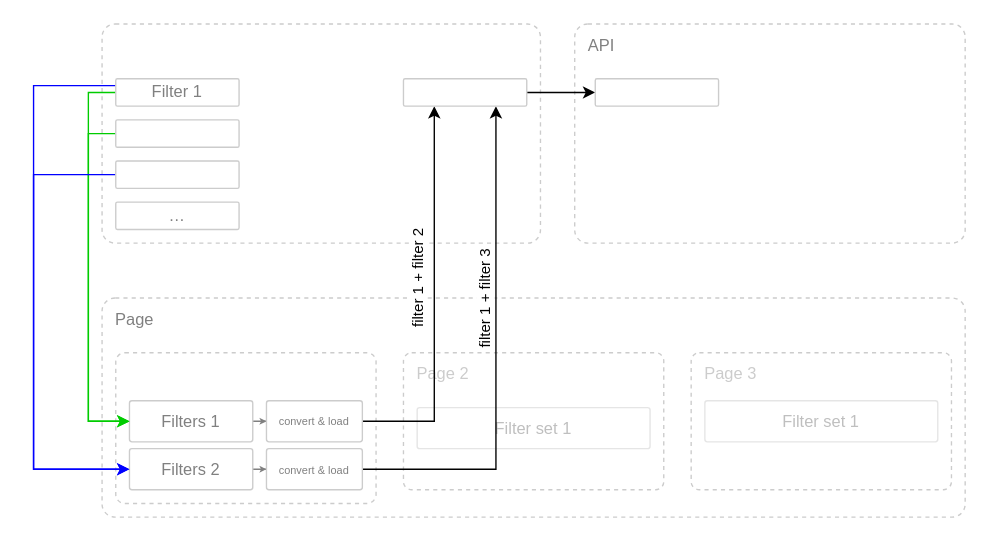
This 989x541 diagram has some shape labels left out. The shapes that lost their labels are listed below. From the top down, each one's box as (x1, y1, x2, y2) in pixels, then its label:
(402, 77, 527, 106): loadFx
(594, 77, 719, 106): load
(114, 119, 239, 147): Filter 2
(101, 23, 540, 243): Domain
(114, 160, 239, 188): Filter 3
(114, 351, 376, 503): Page 1
